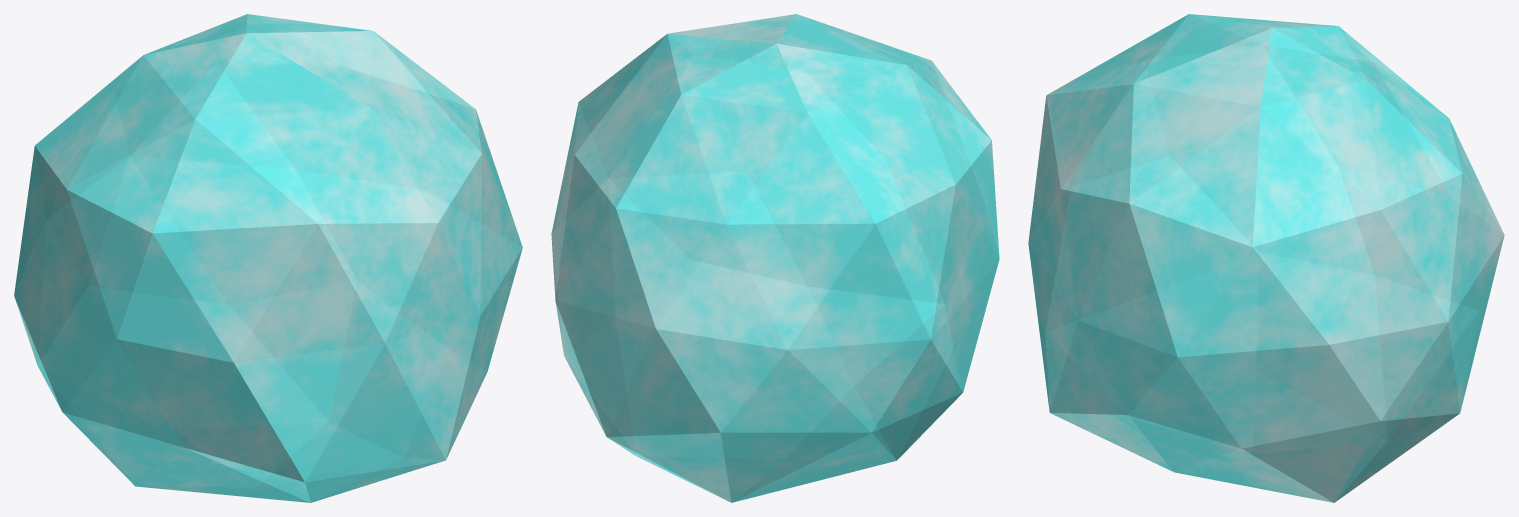
Rendered from IceMedium1.fbx.
3 views of the same model, side by side, from view 1: azimuth 30°, elevation 25°; view 2: azimuth 150°, elevation 25°; view 3: azimuth 270°, elevation 25° (orthographic). The views are drawn at different scales.
Parts seen in each view (by area): view 1: Cube; view 2: Cube; view 3: Cube.
Boxes of the visible parts, x1,y1,x2,y2 form: Cube: [14, 14, 522, 502]; Cube: [551, 14, 999, 502]; Cube: [1028, 14, 1504, 502].
Size of the model in its own units: 24.46 by 24.56 by 24.86.
